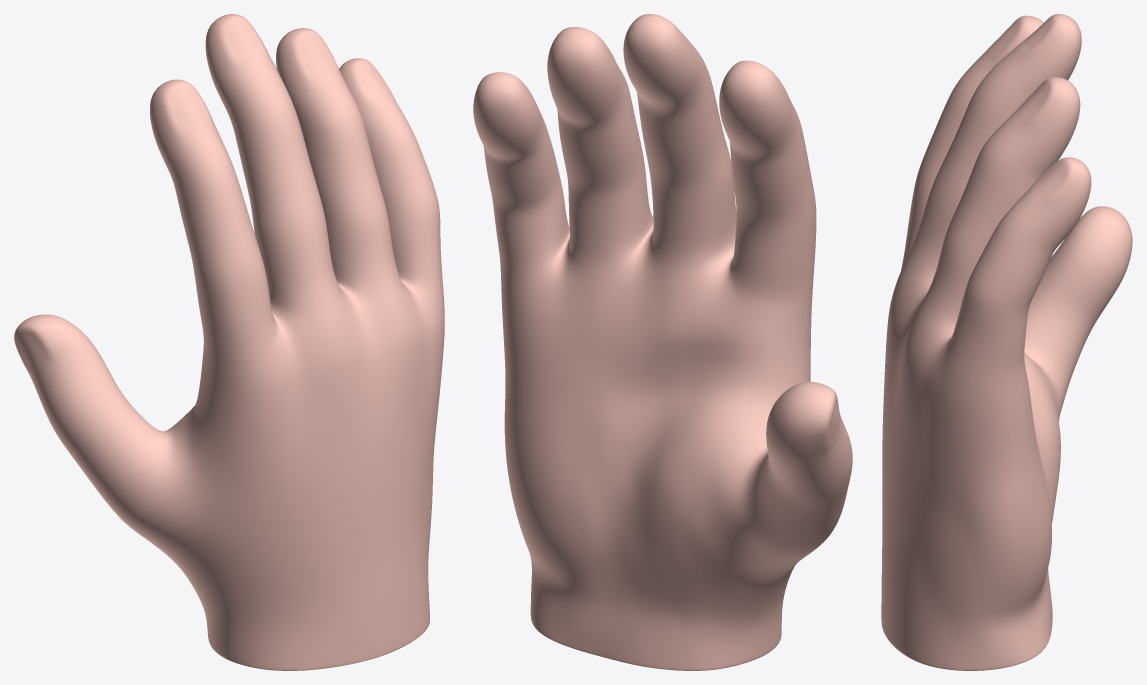
Rendered from Right Hand.gltf.
3 renders of one model, left to right at view 1: azimuth 30°, elevation 25°; view 2: azimuth 150°, elevation 25°; view 3: azimuth 270°, elevation 25°, orthographic. The views are drawn at different scales.
Parts seen in each view (by area): view 1: 12683_hand_v1_FINAL; view 2: 12683_hand_v1_FINAL; view 3: 12683_hand_v1_FINAL.
Part boxes in pixels (box(x1,y1,x2,y2)): 12683_hand_v1_FINAL: box(14, 14, 444, 670); 12683_hand_v1_FINAL: box(473, 14, 852, 670); 12683_hand_v1_FINAL: box(881, 14, 1132, 670).
Bounding box in the file's own units: 1.71 × 2.68 × 1.04.
